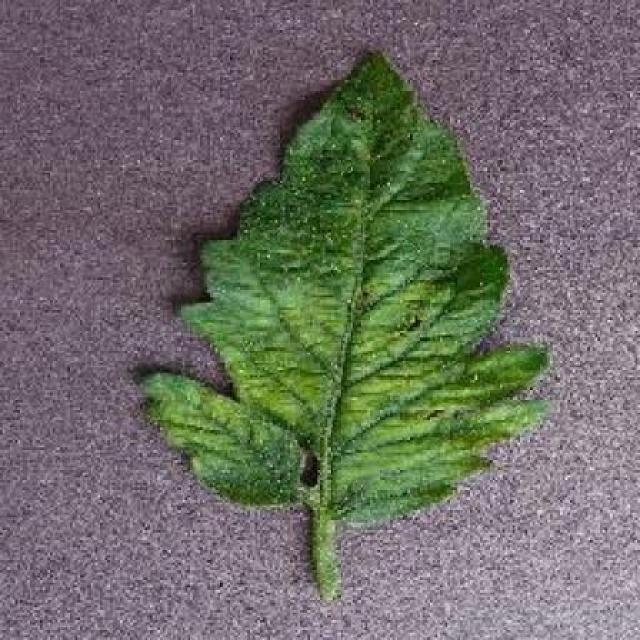Mosaic Virus: (134, 43, 555, 520)
